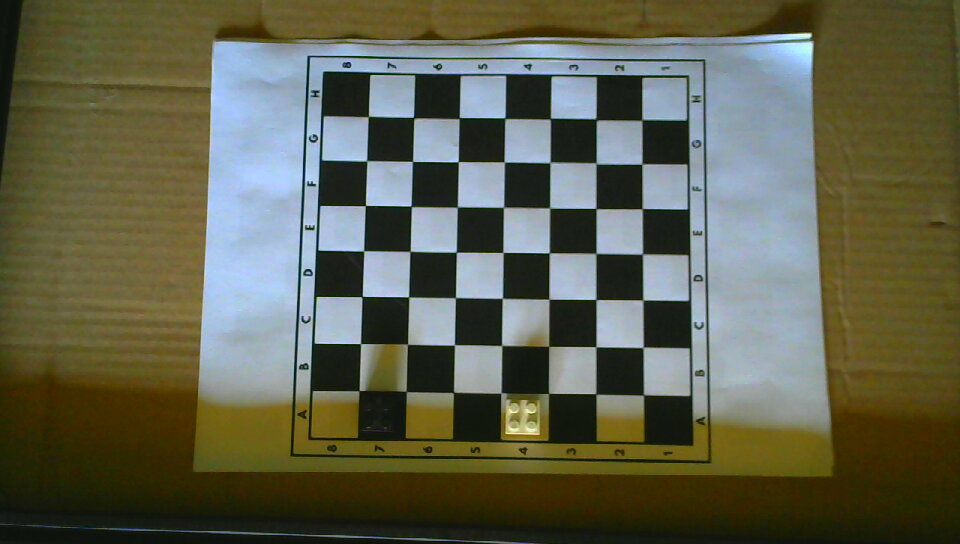bp: (360, 395, 396, 435)
wp: (504, 397, 541, 437)
